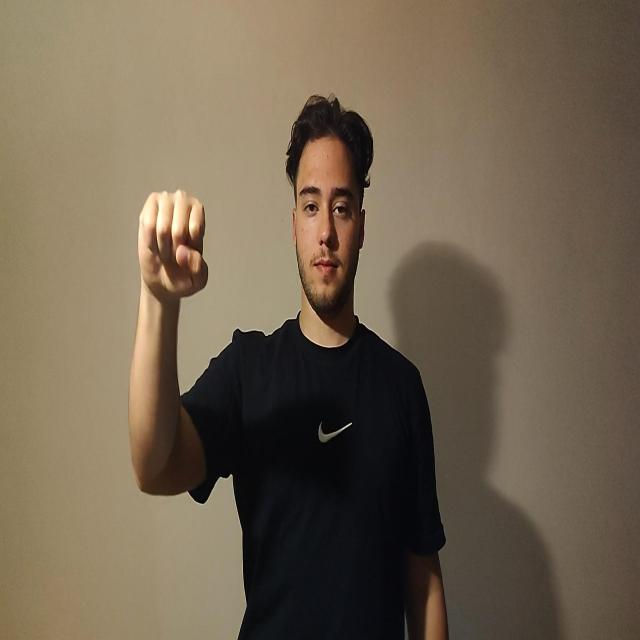yes: (137, 188, 209, 303)
